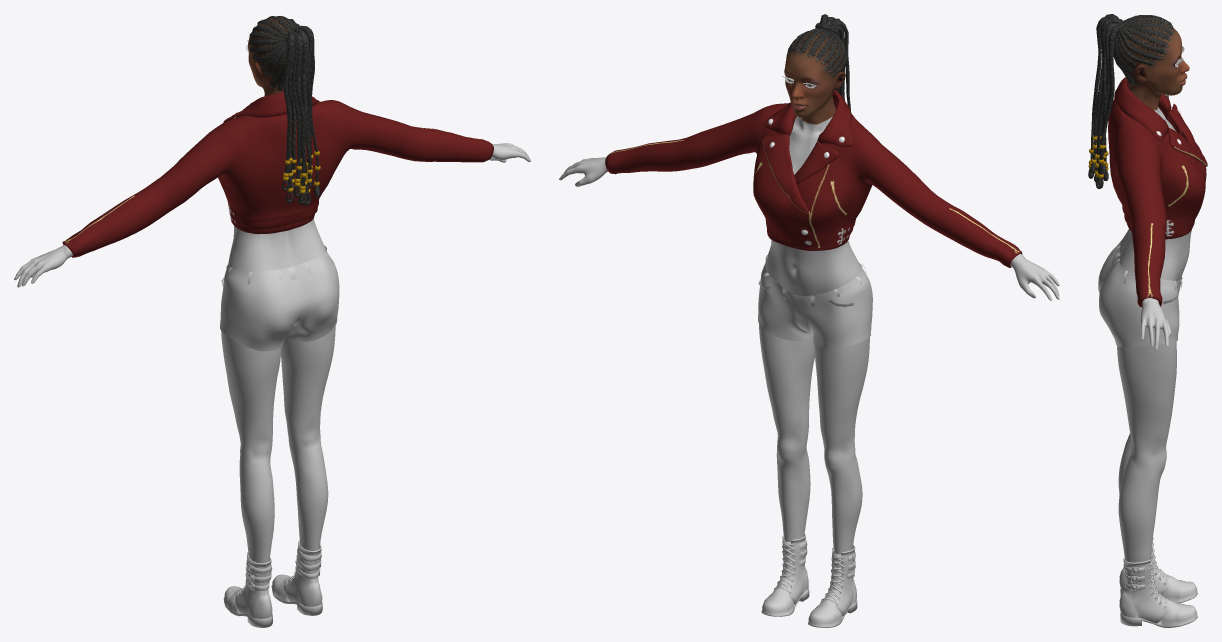
The model's file is Andreia.fbx.
3 views of the same model, side by side, from view 1: azimuth 30°, elevation 25°; view 2: azimuth 150°, elevation 25°; view 3: azimuth 270°, elevation 25° (orthographic). The views are drawn at different scales.
Parts seen in each view (by area): view 1: JaquetaM03, Andreia, ShortJeans01, CabeloAndreia1, BotaM03, CabeloAndreia2; view 2: Andreia, JaquetaM03, ShortJeans01, BotaM03, CabeloAndreia2, CabeloAndreia1; view 3: Andreia, JaquetaM03, BotaM03, ShortJeans01, CabeloAndreia1, CabeloAndreia2.
Part boxes in pixels (bbox=[...]): JaquetaM03: bbox=[62, 91, 493, 257]; Andreia: bbox=[14, 17, 530, 563]; ShortJeans01: bbox=[220, 245, 339, 351]; CabeloAndreia1: bbox=[282, 25, 320, 205]; BotaM03: bbox=[223, 541, 322, 627]; CabeloAndreia2: bbox=[247, 16, 299, 91]; Andreia: bbox=[559, 32, 1059, 554]; JaquetaM03: bbox=[605, 90, 1022, 267]; ShortJeans01: bbox=[758, 255, 872, 348]; BotaM03: bbox=[761, 533, 857, 627]; CabeloAndreia2: bbox=[786, 28, 846, 90]; CabeloAndreia1: bbox=[815, 14, 851, 112]; Andreia: bbox=[1117, 16, 1191, 617]; JaquetaM03: bbox=[1108, 77, 1207, 307]; BotaM03: bbox=[1119, 537, 1197, 627]; ShortJeans01: bbox=[1098, 240, 1182, 347]; CabeloAndreia1: bbox=[1088, 14, 1124, 188]; CabeloAndreia2: bbox=[1113, 15, 1174, 86].
Bounding box in the file's own units: 179 × 199 × 36.15.
